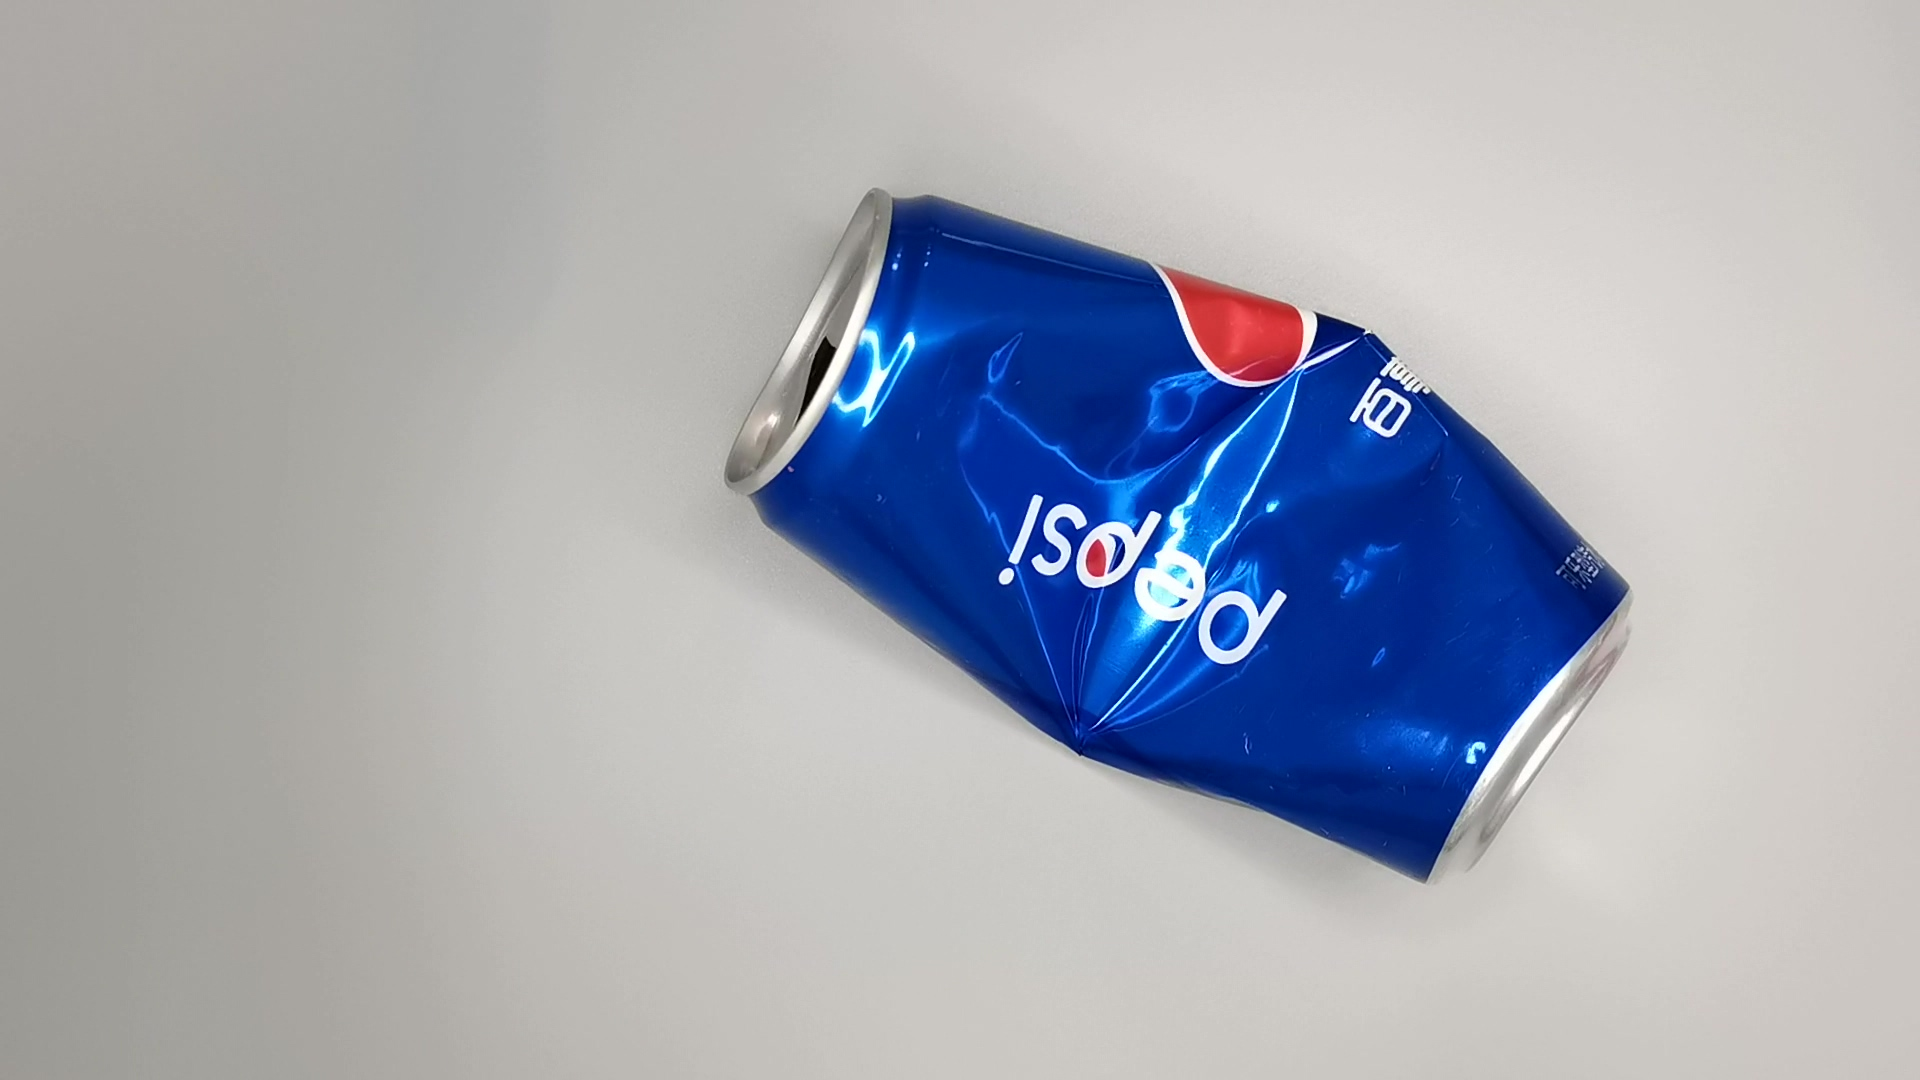can: (708, 167, 1636, 909)
